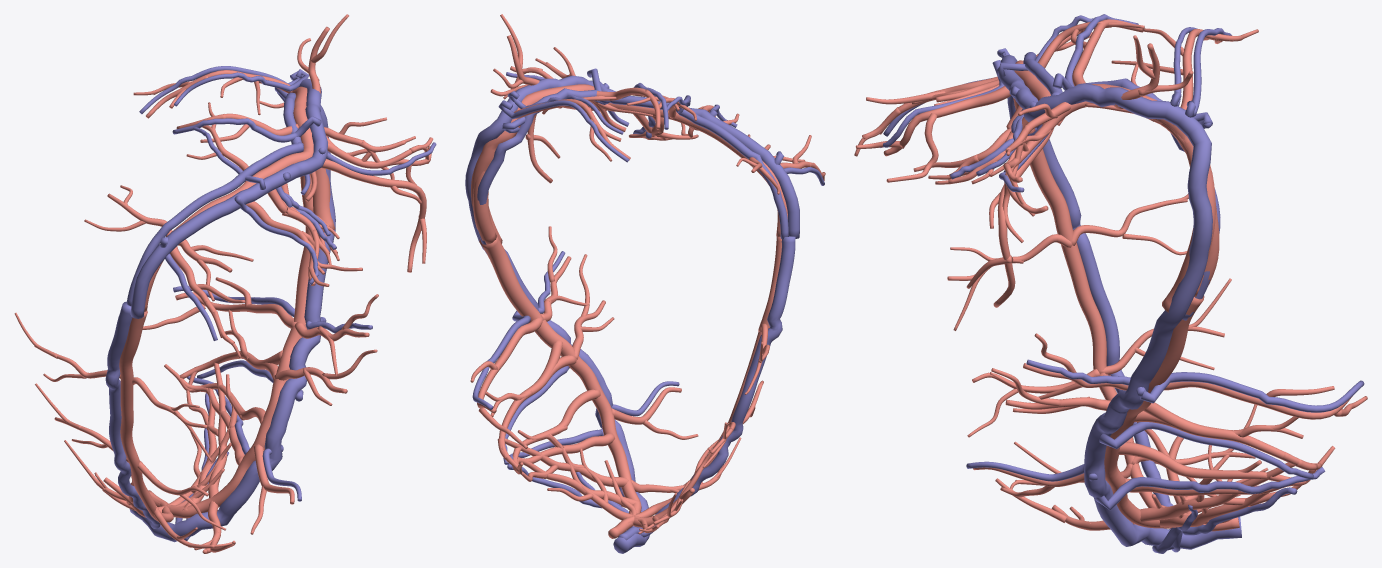
Rendered from vessels_39.glb.
The picture shows the model from 3 angles, left to right: view 1: azimuth 30°, elevation 25°; view 2: azimuth 150°, elevation 25°; view 3: azimuth 270°, elevation 25°; orthographic projection. The views are drawn at different scales.
Visible parts, largest first — view 1: Renderer Node; view 2: Renderer Node; view 3: Renderer Node.
Part boxes in pixels (bbox=[...]): Renderer Node: bbox=[14, 14, 436, 553]; Renderer Node: bbox=[465, 14, 825, 553]; Renderer Node: bbox=[854, 14, 1367, 553].
Size of the model in its own units: 88.92 by 121 by 91.87.
